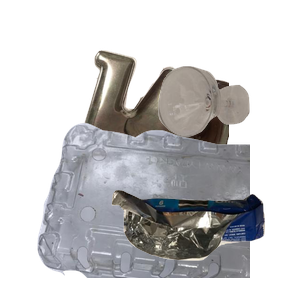glass: (156, 64, 300, 194)
metal: (60, 47, 300, 227)
plastic: (35, 120, 275, 300)
trash: (109, 187, 300, 300)
